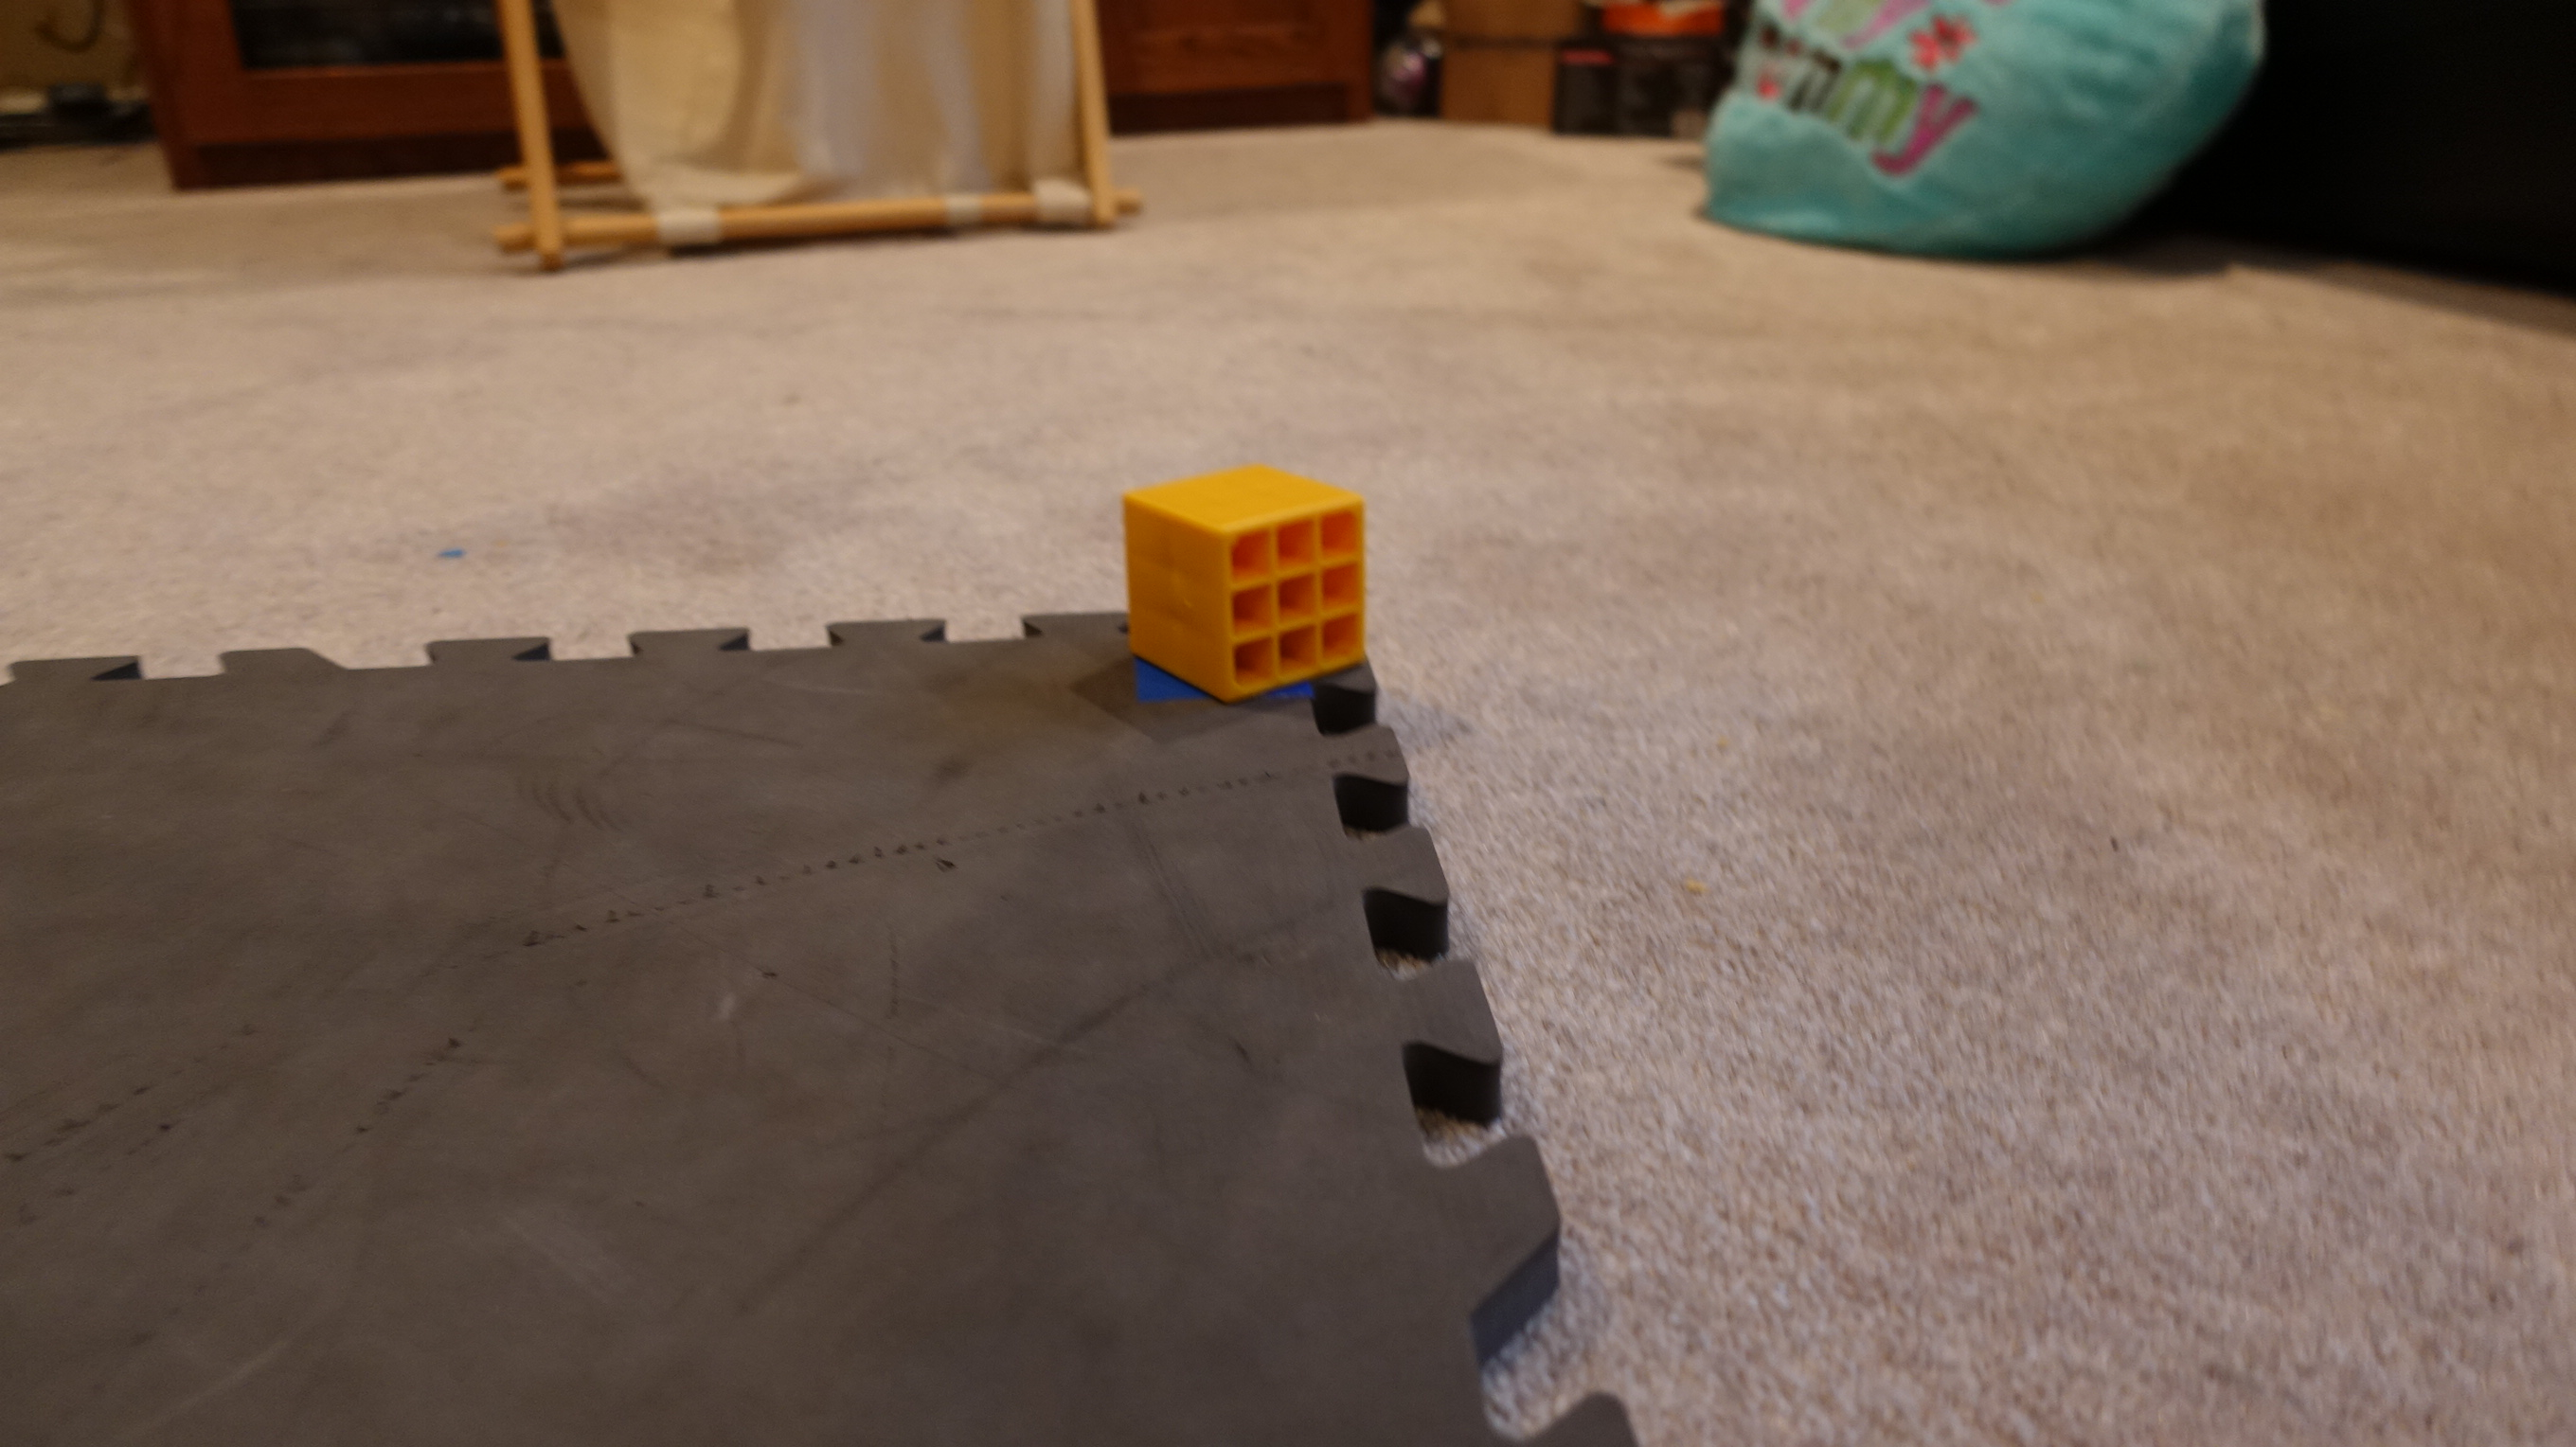gold: (1120, 455, 1380, 701)
